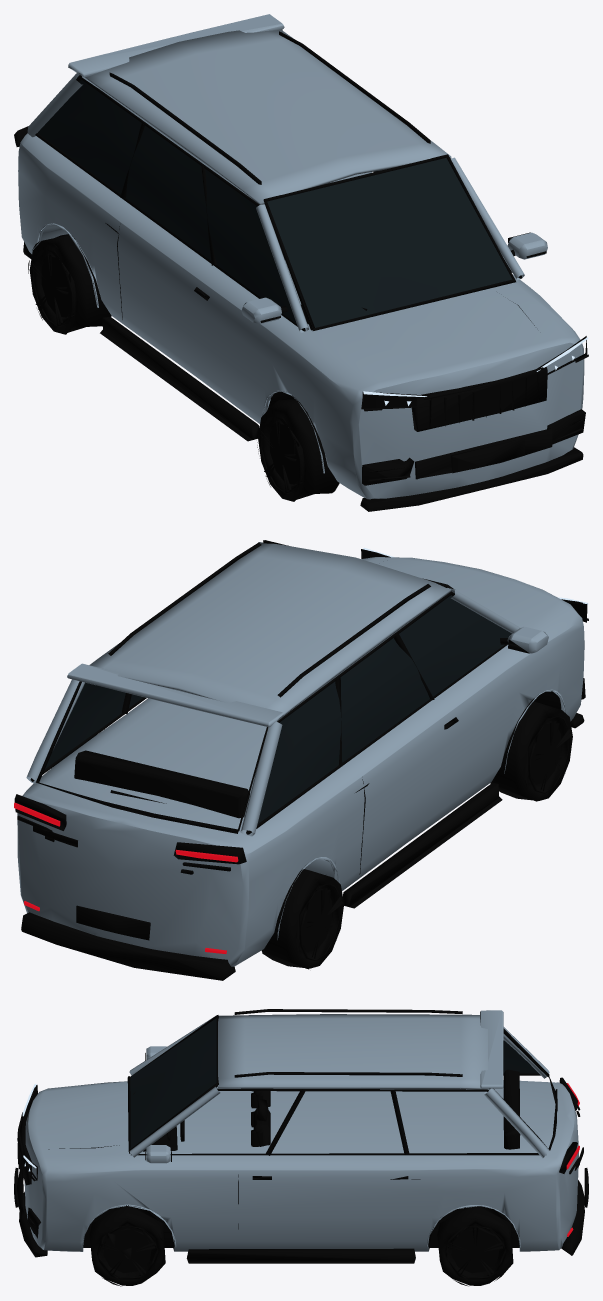
File: avanza-far.glb
3 views of the same model, one above another, from view 1: azimuth 30°, elevation 25°; view 2: azimuth 150°, elevation 25°; view 3: azimuth 270°, elevation 25° (orthographic). The views are drawn at different scales.
Visible parts, largest first — view 1: chassis.001__Automotive clearcoat, chassis.001__Solar glass, chassis.001__Vehicle detail atlas, wheel_FL.001__Vehicle detail atlas, wheel_RL.001__Vehicle detail atlas; view 2: chassis.001__Automotive clearcoat, chassis.001__Vehicle detail atlas, chassis.001__Solar glass, wheel_FL.001__Vehicle detail atlas, wheel_RL.001__Vehicle detail atlas, chassis.001__Red LED optics; view 3: chassis.001__Automotive clearcoat, chassis.001__Vehicle detail atlas, chassis.001__Solar glass, wheel_RR.001__Vehicle detail atlas, wheel_FR.001__Vehicle detail atlas.
Boxes of the visible parts, x1,y1,x2,y2 form: chassis.001__Automotive clearcoat: [18, 14, 584, 499]; chassis.001__Solar glass: [38, 80, 512, 329]; chassis.001__Vehicle detail atlas: [14, 31, 587, 511]; wheel_FL.001__Vehicle detail atlas: [257, 399, 339, 501]; wheel_RL.001__Vehicle detail atlas: [28, 234, 111, 334]; chassis.001__Automotive clearcoat: [17, 542, 584, 966]; chassis.001__Vehicle detail atlas: [14, 540, 587, 980]; chassis.001__Solar glass: [45, 595, 511, 832]; wheel_FL.001__Vehicle detail atlas: [490, 701, 572, 801]; wheel_RL.001__Vehicle detail atlas: [261, 868, 343, 969]; chassis.001__Red LED optics: [14, 802, 238, 953]; chassis.001__Automotive clearcoat: [24, 1010, 578, 1251]; chassis.001__Vehicle detail atlas: [14, 1009, 588, 1263]; chassis.001__Solar glass: [130, 1018, 538, 1148]; wheel_RR.001__Vehicle detail atlas: [437, 1206, 513, 1286]; wheel_FR.001__Vehicle detail atlas: [89, 1206, 165, 1286].
Size of the model in its own units: 2.04 by 1.74 by 4.55.
Materials: 8 (6 with a texture image).
